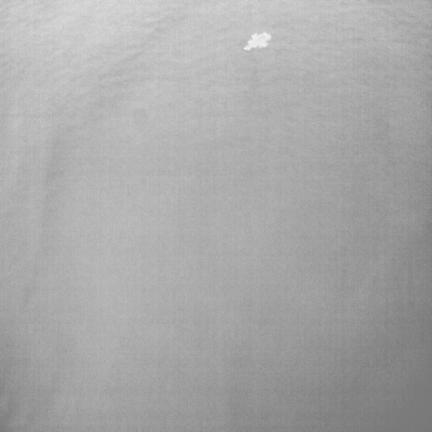flukeprints: (244, 32, 271, 50)
